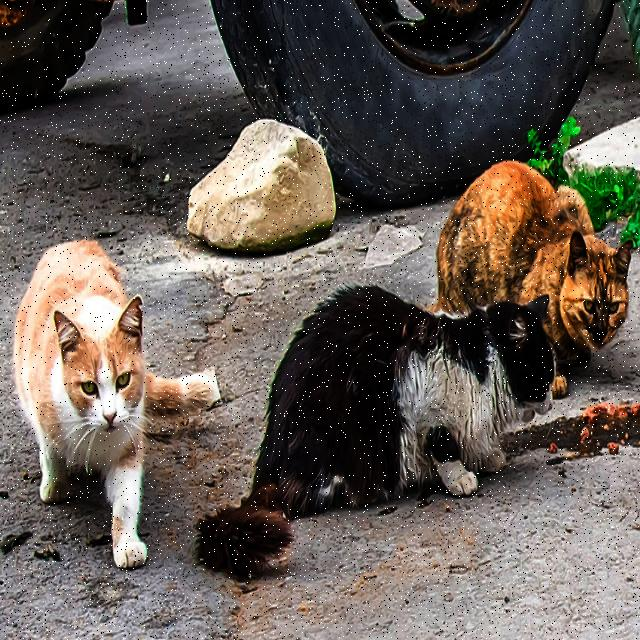cat: (198, 286, 555, 577), (14, 239, 220, 567), (438, 161, 632, 364)
